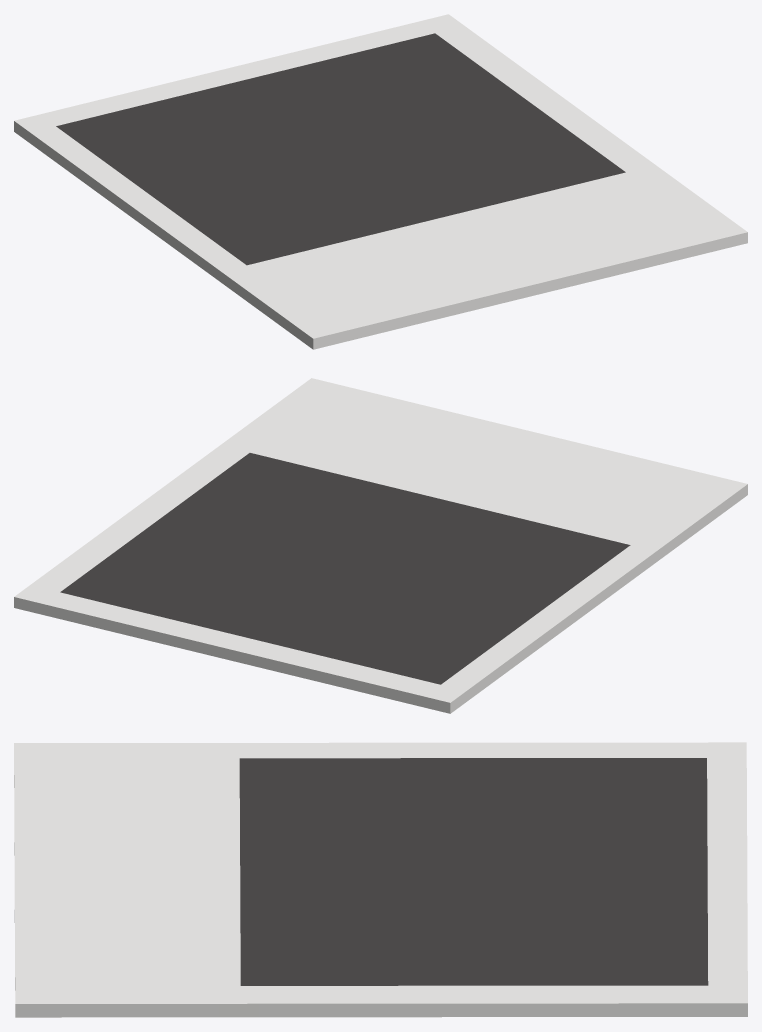
File: Photo_2.glb
3 views of the same model, one above another, from view 1: azimuth 30°, elevation 25°; view 2: azimuth 150°, elevation 25°; view 3: azimuth 270°, elevation 25° (orthographic). The views are drawn at different scales.
Visible parts, largest first — view 1: Photo_2; view 2: Photo_2; view 3: Photo_2.
Boxes of the visible parts, box(x1,y1,x2,y2) form: Photo_2: box(14, 14, 747, 349); Photo_2: box(14, 378, 747, 713); Photo_2: box(14, 742, 747, 1017).
Bounding box in the file's own units: 0.1391 × 0.00335 × 0.1649.
Materials: 1 (1 with a texture image).
